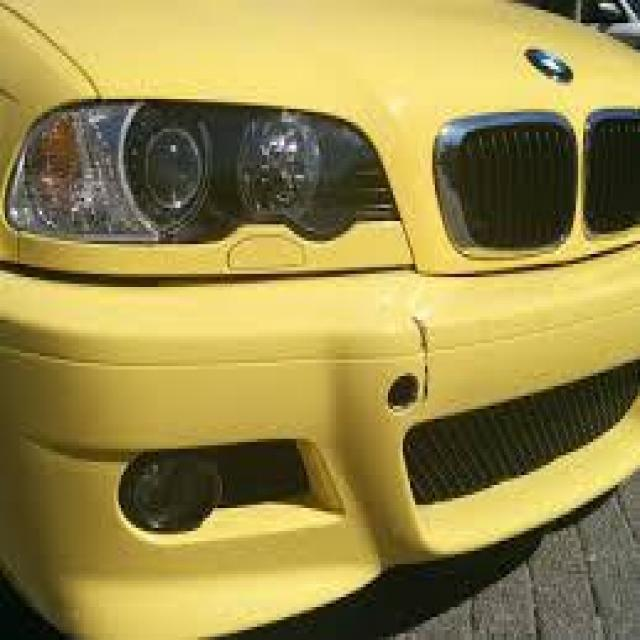damaged: (410, 313, 435, 406)
